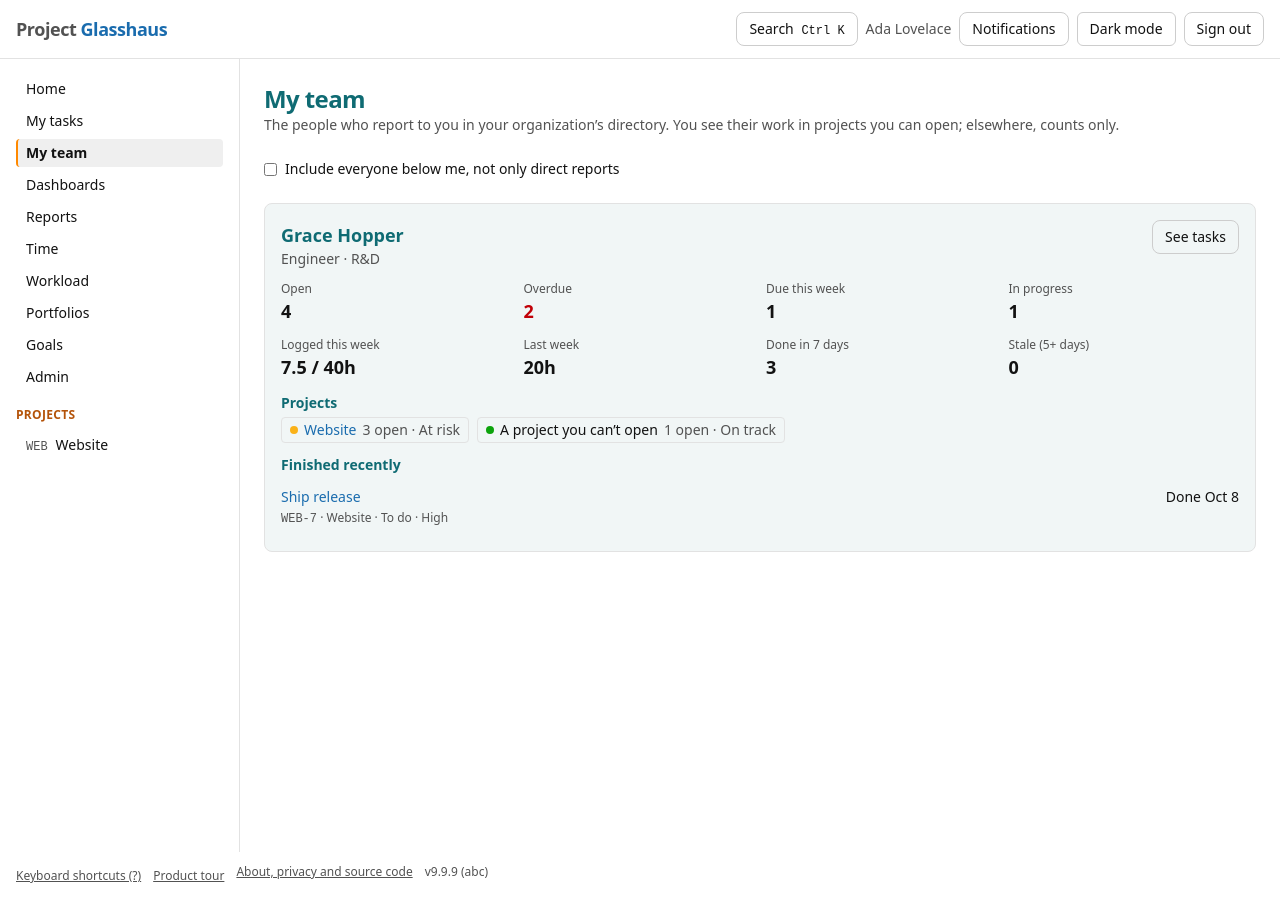
Test: My team › is in the menu for managers and shows each report’s work, time and projects
Expected: the list item "Grace Hopper" shows "Engineer · R&D", [281,249,380,268]
Expected: the text "2" is shown, [524,299,534,323]
Click the checkbox labelled "Include everyone below me, not only direct reports" at (270,169), box [264,162,277,176]
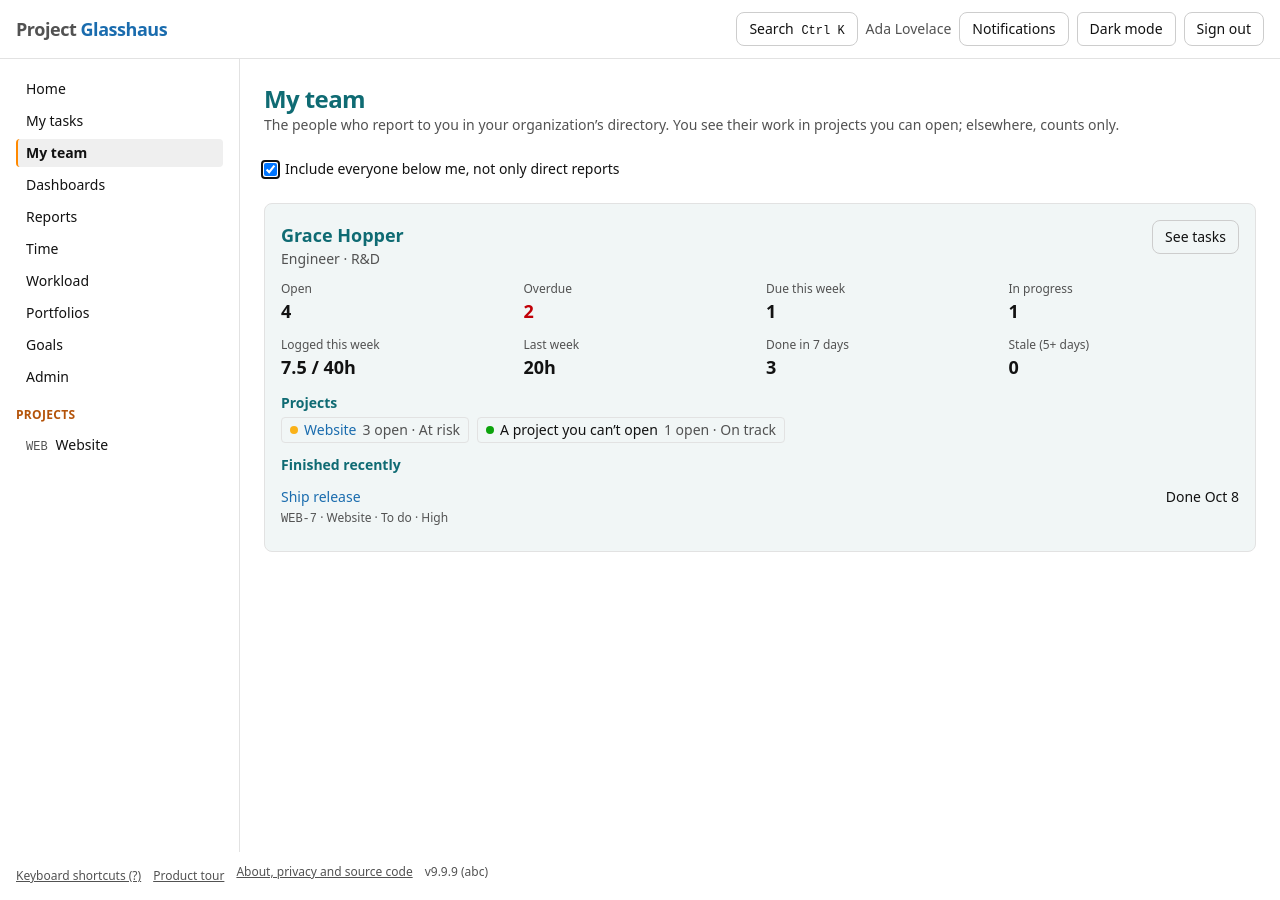
Click the button with aria-label "See Grace Hopper's tasks" at (1196,237), box [1152,220,1239,254]
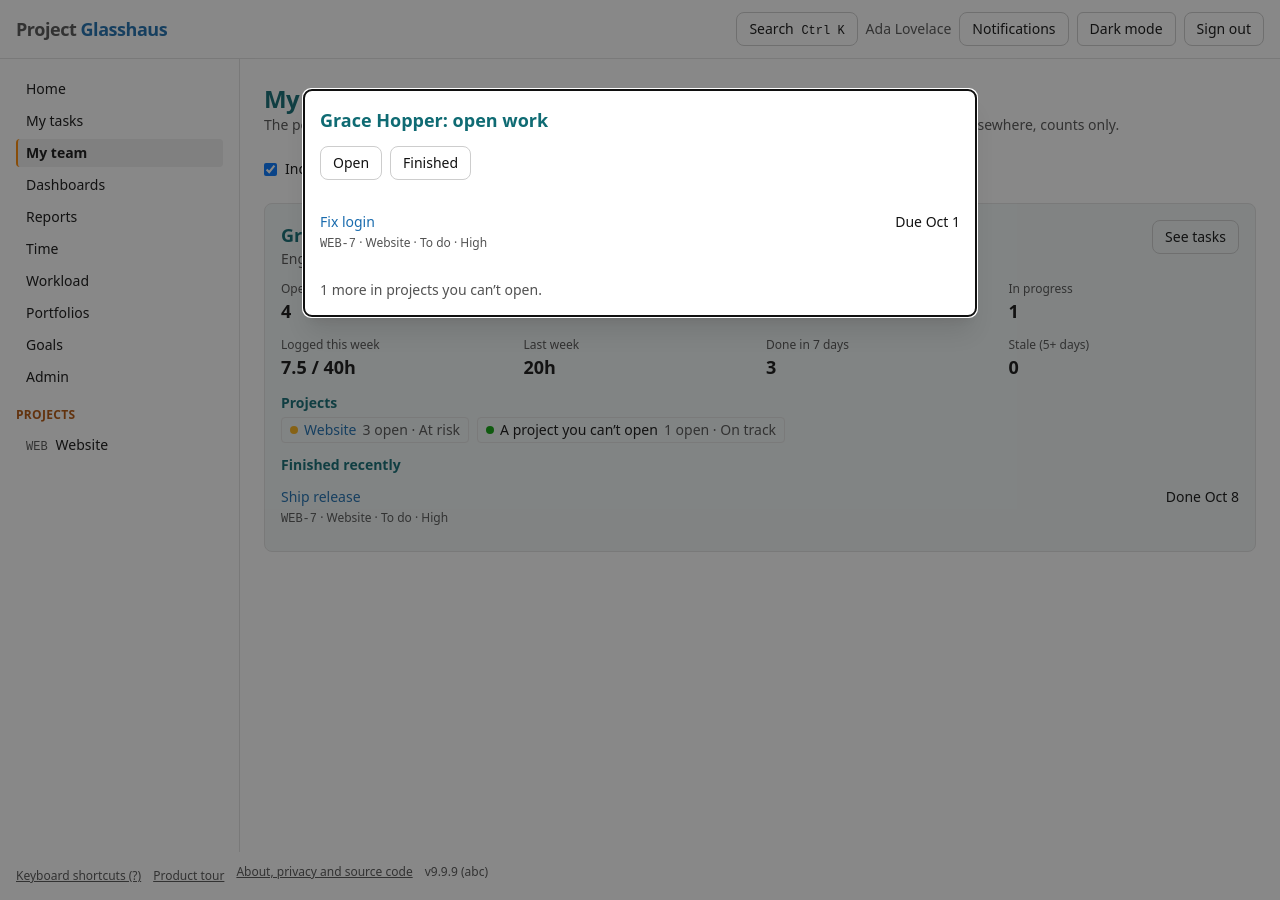
Result: the dialog "Grace Hopper: open work" shows "1 more in projects you can’t open." at [304,90,976,316]
